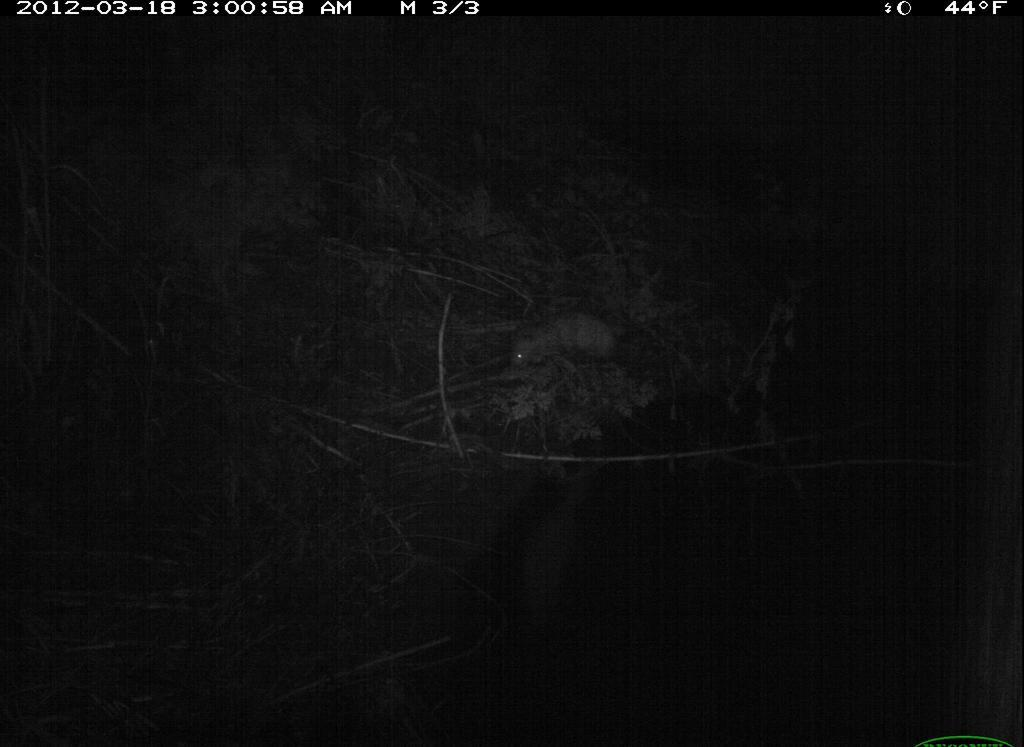opossum: (486, 299, 644, 381)
